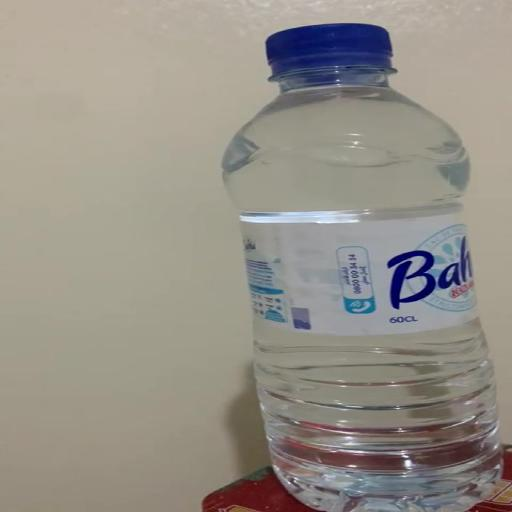bouteille conformite: (226, 24, 499, 511)
